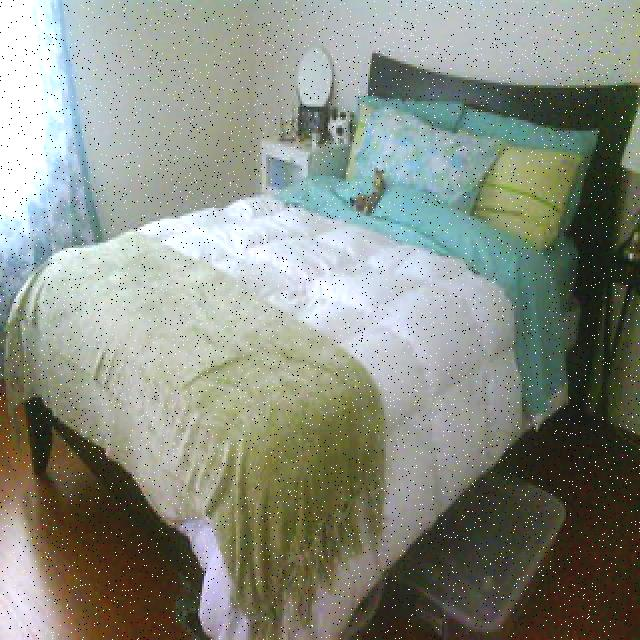bed: (11, 93, 606, 571)
